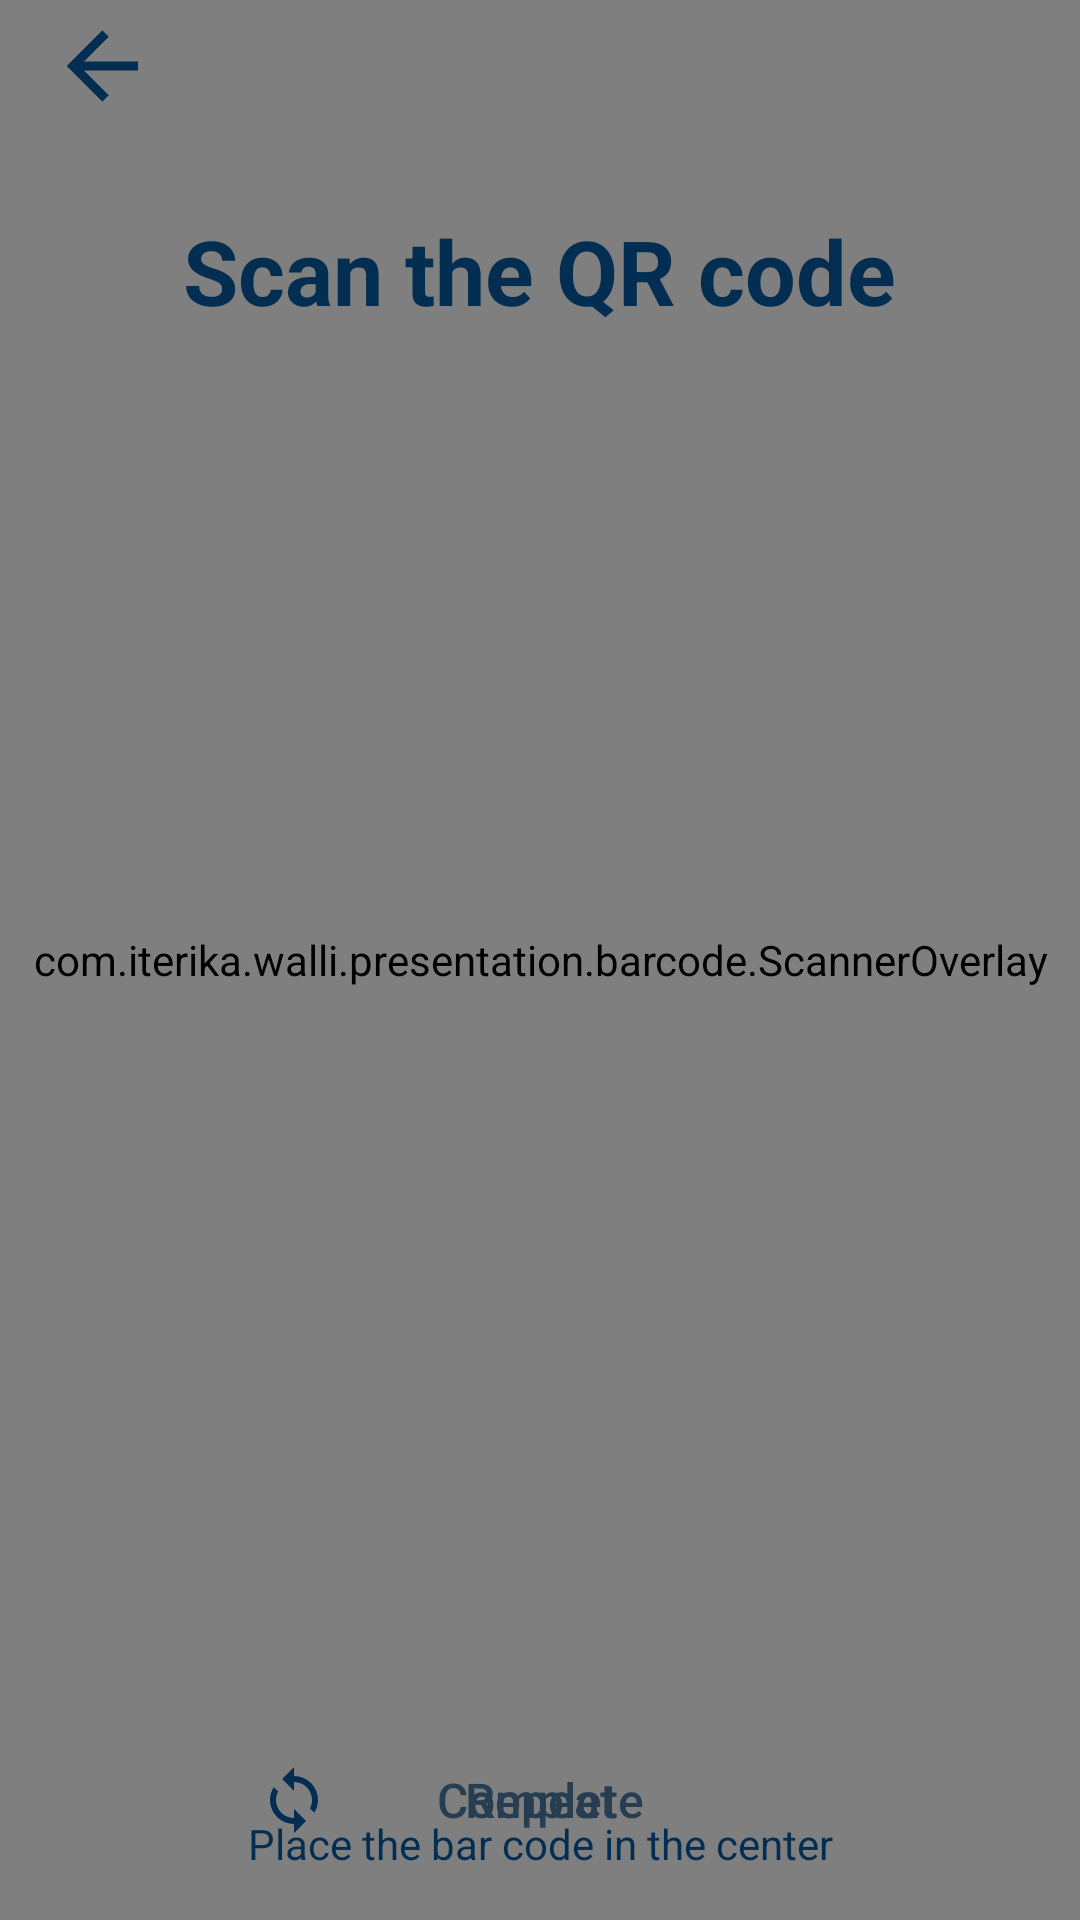

Icon bounding boxes for this 1080w x 1920h phone screenshot, format region(x1, y1, x2, y2):
back: region(67, 30, 138, 102)
